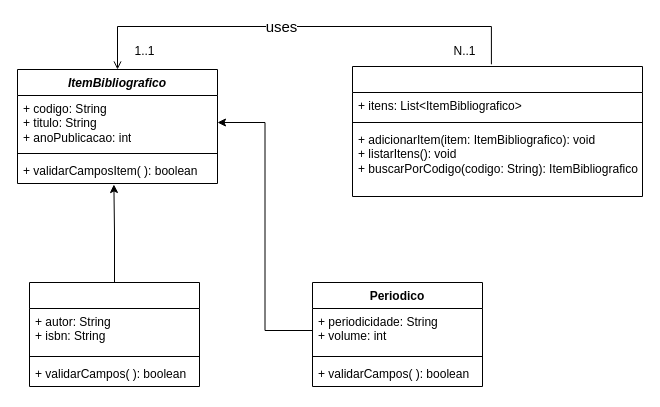
This 660x407 diagram has some shape labels left out. Here are the shapes that lost their labels. From the top down, the box of each, then its label:
(352, 66, 642, 196): Biblioteca
(28, 282, 200, 386): Livro
